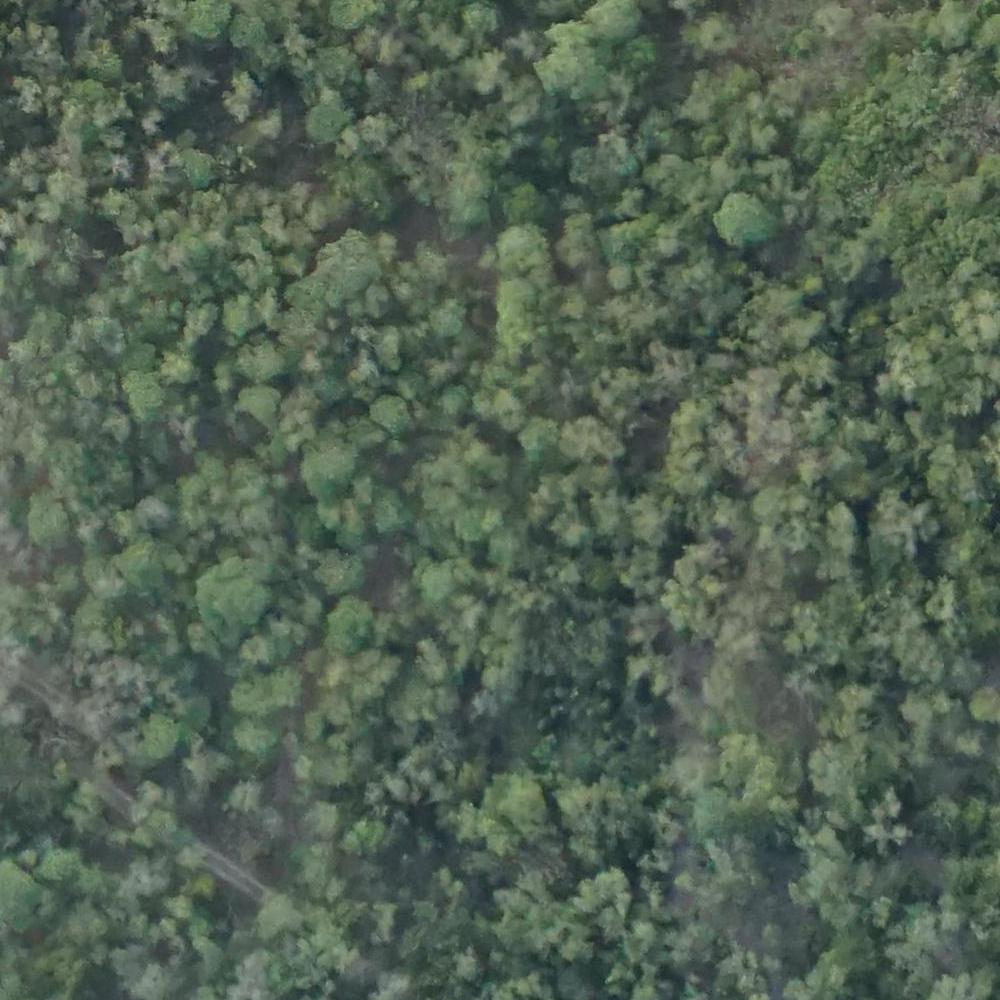tree: (541, 23, 615, 93), (199, 562, 266, 630), (709, 188, 777, 242), (313, 229, 372, 285), (127, 789, 182, 844), (574, 410, 625, 466), (305, 448, 357, 501), (338, 821, 387, 875), (128, 720, 177, 772), (328, 599, 377, 649), (491, 221, 543, 268), (311, 542, 354, 598), (864, 804, 915, 851), (352, 110, 406, 153), (712, 730, 764, 772), (123, 368, 166, 417), (235, 726, 285, 767), (487, 389, 532, 434), (511, 176, 553, 222), (820, 505, 860, 552), (243, 384, 286, 427), (308, 98, 353, 138), (181, 1, 228, 39), (66, 791, 109, 831), (696, 18, 733, 62), (223, 77, 262, 118), (408, 246, 446, 288), (367, 393, 406, 432), (942, 181, 979, 221), (334, 1, 386, 29), (516, 416, 554, 454), (430, 300, 465, 338), (127, 494, 166, 528), (439, 385, 473, 419), (490, 531, 522, 565), (974, 688, 1000, 728), (178, 151, 214, 179), (606, 257, 634, 287)
